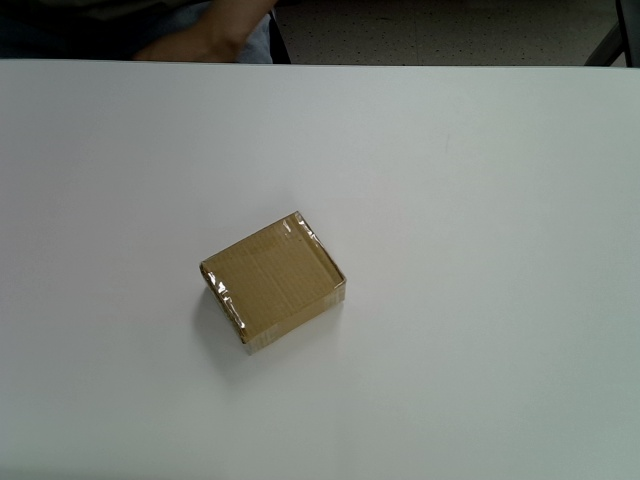normal: (199, 210, 346, 356)
